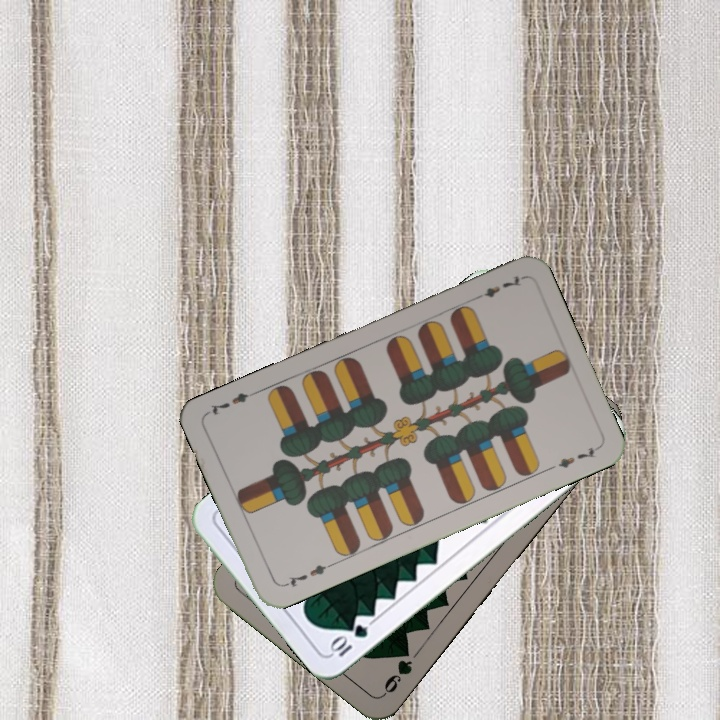E7: (469, 271, 526, 303), (278, 559, 334, 590)
G10: (326, 620, 371, 660)
G9: (379, 642, 415, 698)
